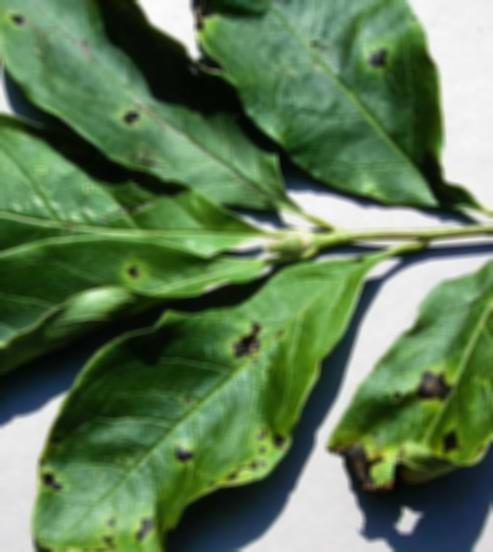Tomato leaf bacterial spot: (31, 245, 375, 552), (0, 0, 332, 225), (0, 241, 262, 452), (336, 250, 493, 515)
